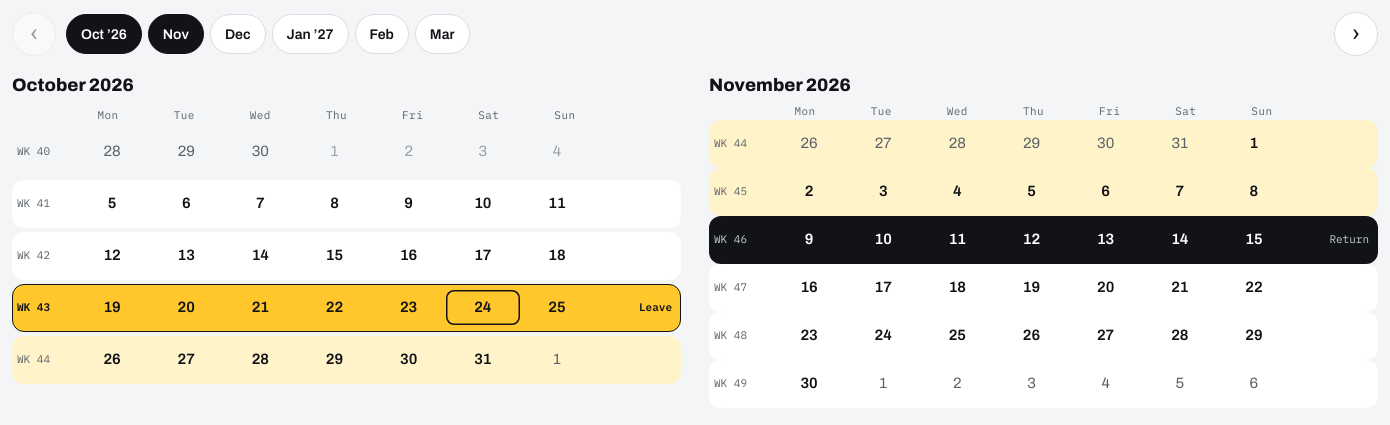
Test: picking weeks › the 12-week limit applies only while you are choosing a return
The width and height of the screenshot is (1390, 425).
Click the button with aria-label "January 2027" at point(310, 34), box [272, 14, 349, 54]
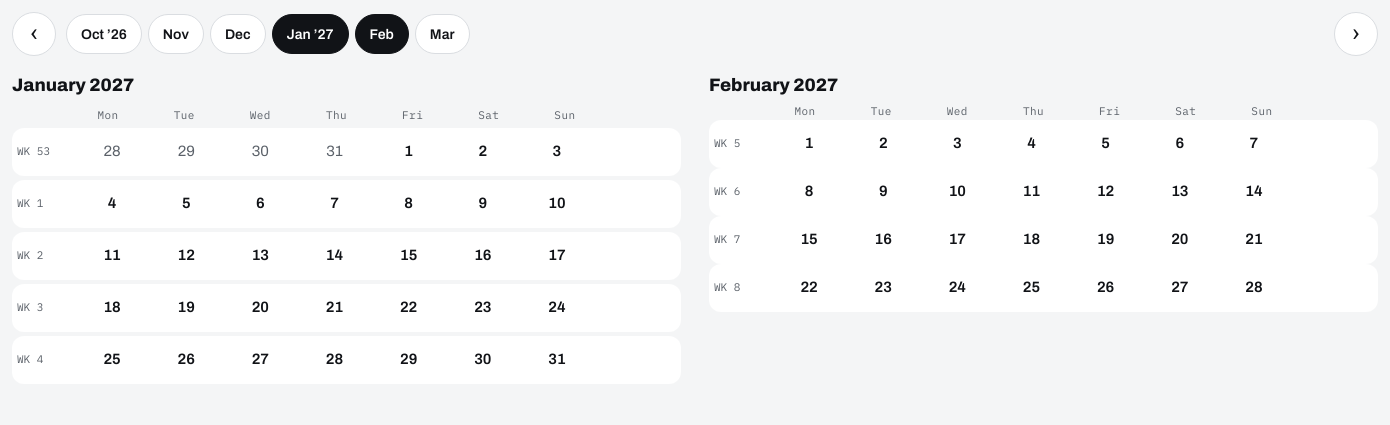
Now the button with aria-label "Week 3, Mon Jan 18" is enabled, box [12, 284, 681, 332]
